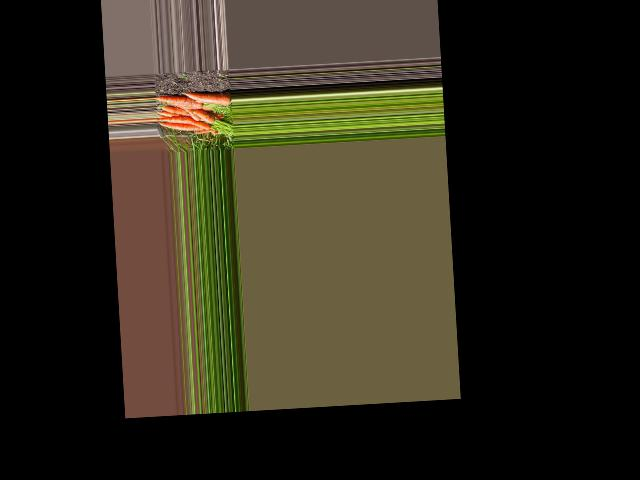carrot: (157, 115, 212, 132)
